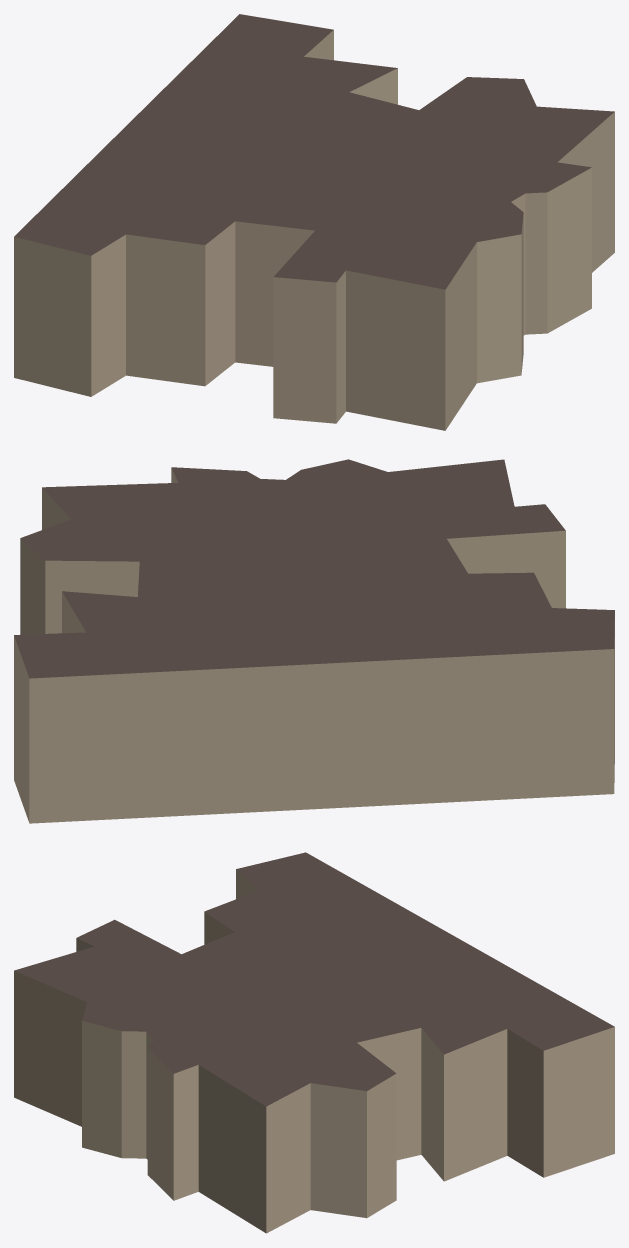
3 renders of one model, top to bottom at view 1: azimuth 30°, elevation 25°; view 2: azimuth 150°, elevation 25°; view 3: azimuth 270°, elevation 25°, orthographic. The views are drawn at different scales.
Parts seen in each view (by area): view 1: HP-w1512359831; view 2: HP-w1512359831; view 3: HP-w1512359831.
Part boxes in pixels (<box>): HP-w1512359831: <box>14,14,614,430</box>; HP-w1512359831: <box>14,459,614,823</box>; HP-w1512359831: <box>14,852,614,1233</box>.
Size of the model in its own units: 38.63 by 9 by 38.59.
